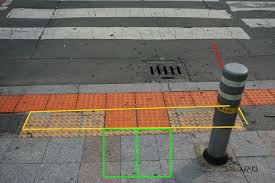guide_blocks: (1, 88, 275, 110), (23, 106, 244, 132)
